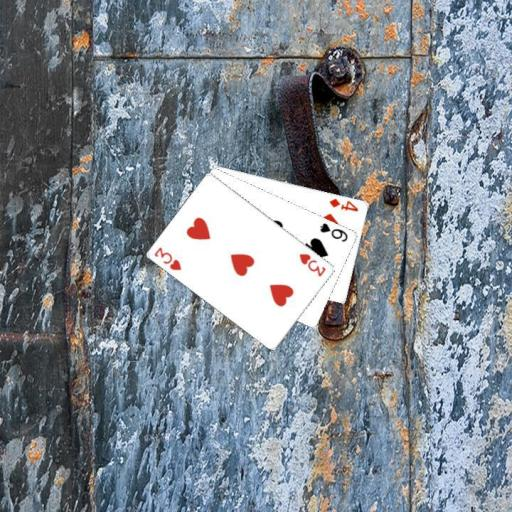3H: (296, 250, 328, 278), (152, 244, 184, 272)
4D: (326, 195, 360, 213)
6S: (317, 220, 350, 243)
